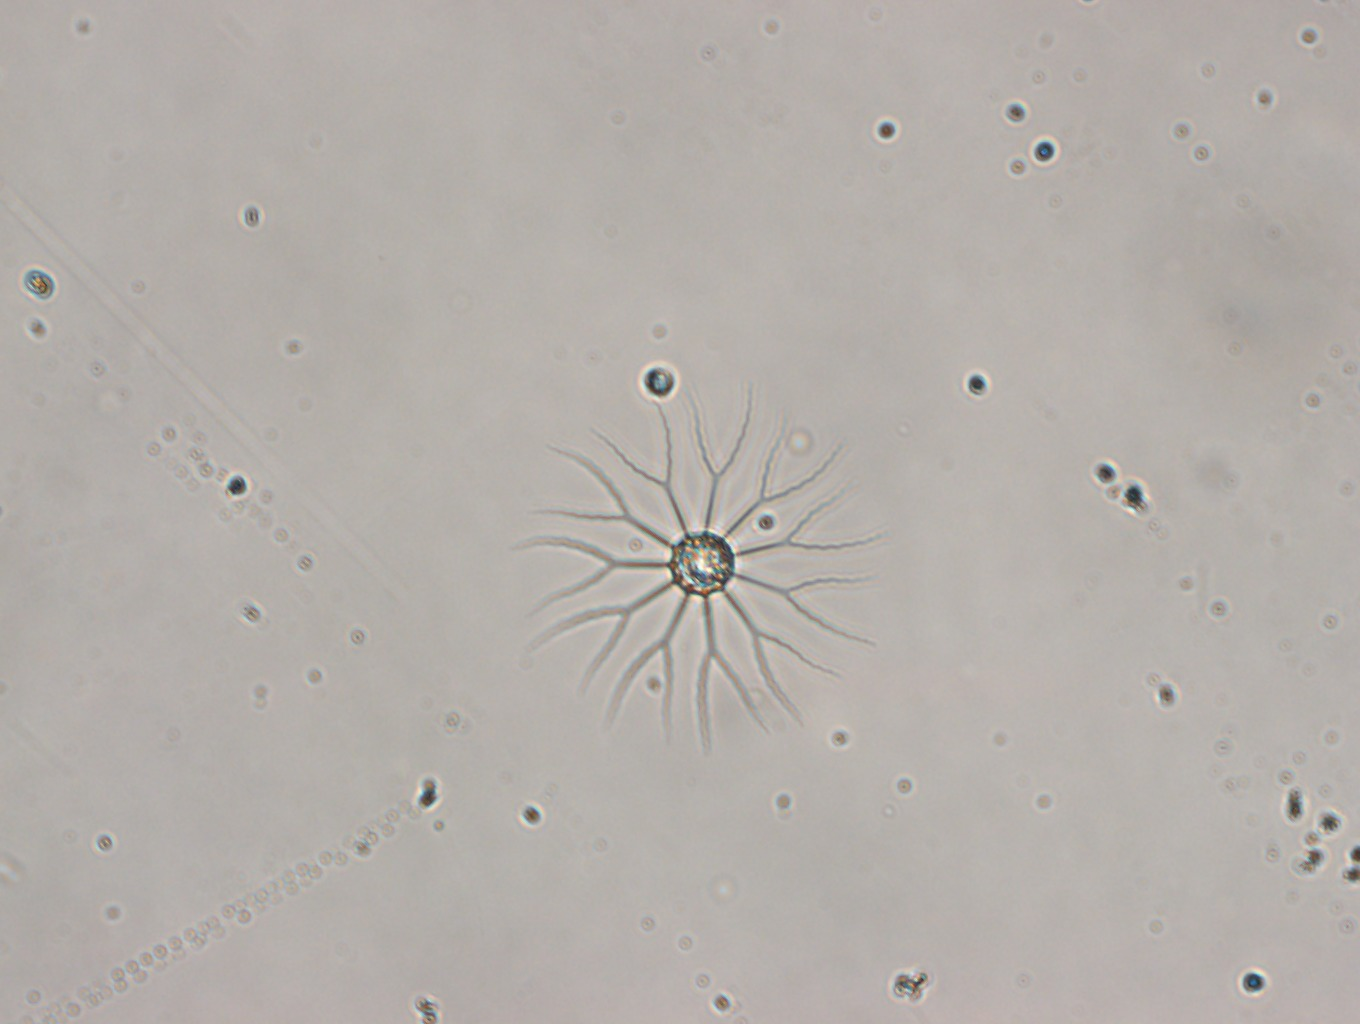bacteriastrum: (511, 387, 878, 749)
